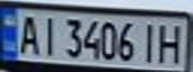0: (100, 19, 121, 62)
3: (60, 15, 84, 58)
4: (81, 17, 103, 61)
6: (115, 19, 139, 63)
A: (12, 11, 42, 56)
H: (154, 20, 187, 64)
I: (136, 20, 160, 64), (36, 14, 60, 56)
